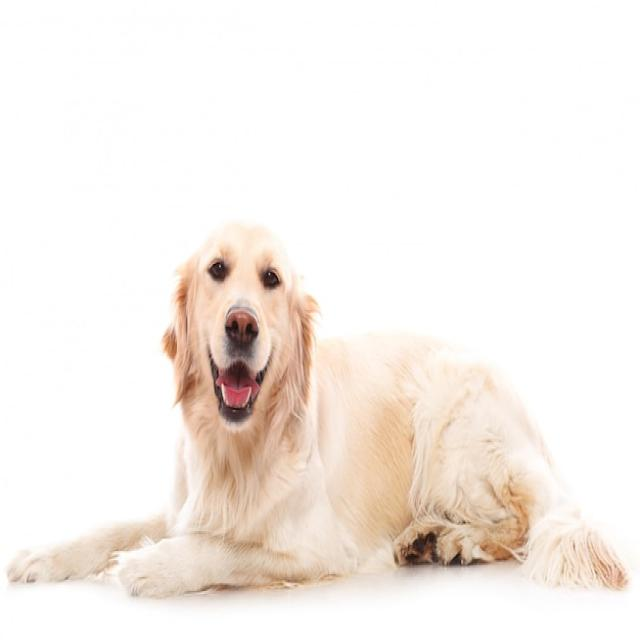Dog: (8, 223, 628, 596)
